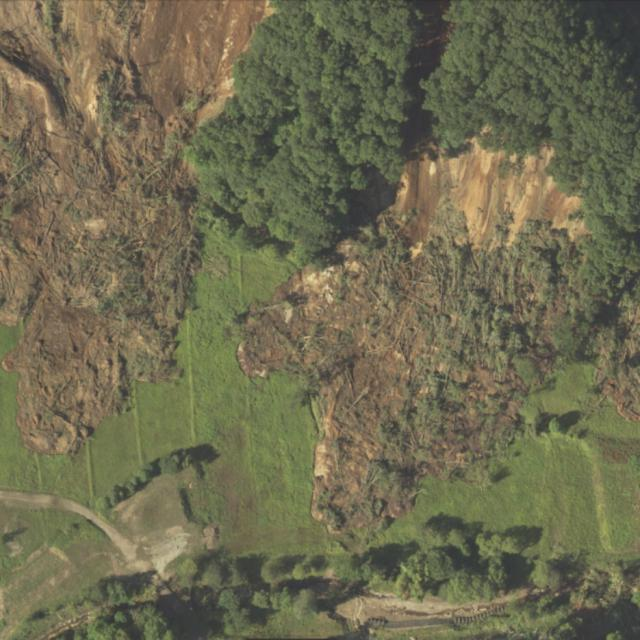landslide: (238, 142, 585, 531), (0, 1, 268, 455)
